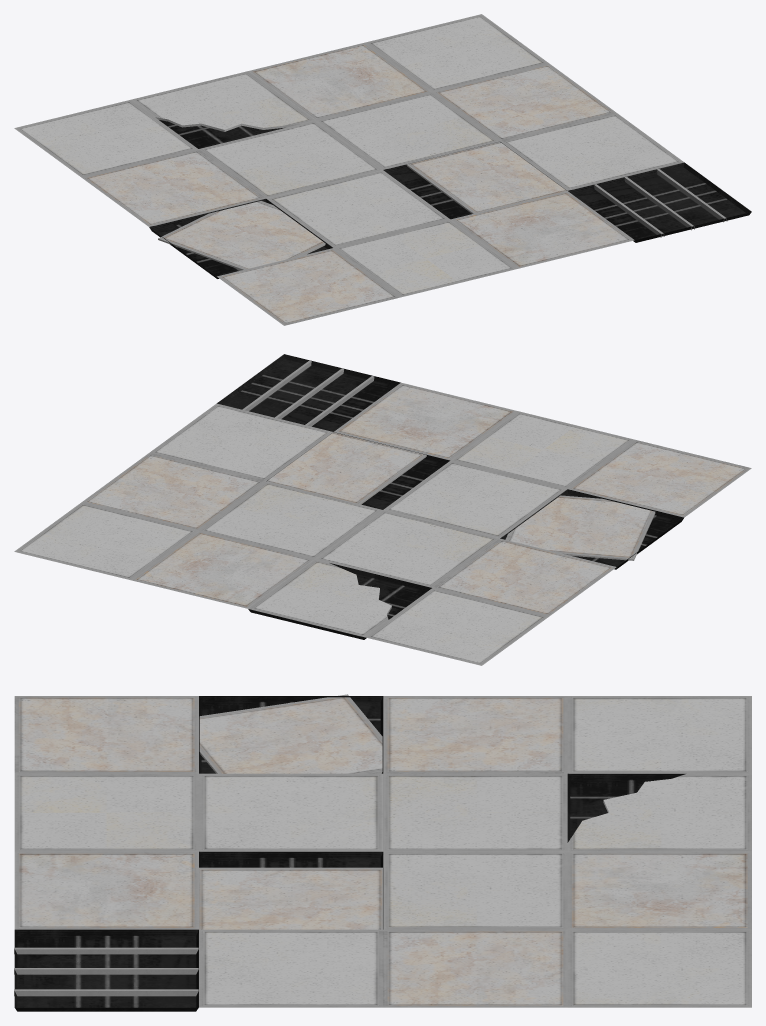
Rendered from HH_Ceiling_Armstrong_4х4m_Broken.fbx.
The picture shows the model from 3 angles, top to bottom: view 1: azimuth 30°, elevation 25°; view 2: azimuth 150°, elevation 25°; view 3: azimuth 270°, elevation 25°; orthographic projection. The views are drawn at different scales.
Visible parts, largest first — view 1: HH_Ceiling_Armstrong_4х4m_Broken; view 2: HH_Ceiling_Armstrong_4х4m_Broken; view 3: HH_Ceiling_Armstrong_4х4m_Broken.
Boxes of the visible parts, x1,y1,x2,y2 form: HH_Ceiling_Armstrong_4х4m_Broken: [14, 14, 751, 325]; HH_Ceiling_Armstrong_4х4m_Broken: [14, 354, 751, 665]; HH_Ceiling_Armstrong_4х4m_Broken: [14, 694, 751, 1011].
Bounding box in the file's own units: 403 × 3.16 × 400.
